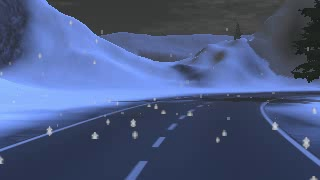Lane: (0, 91, 319, 179)
